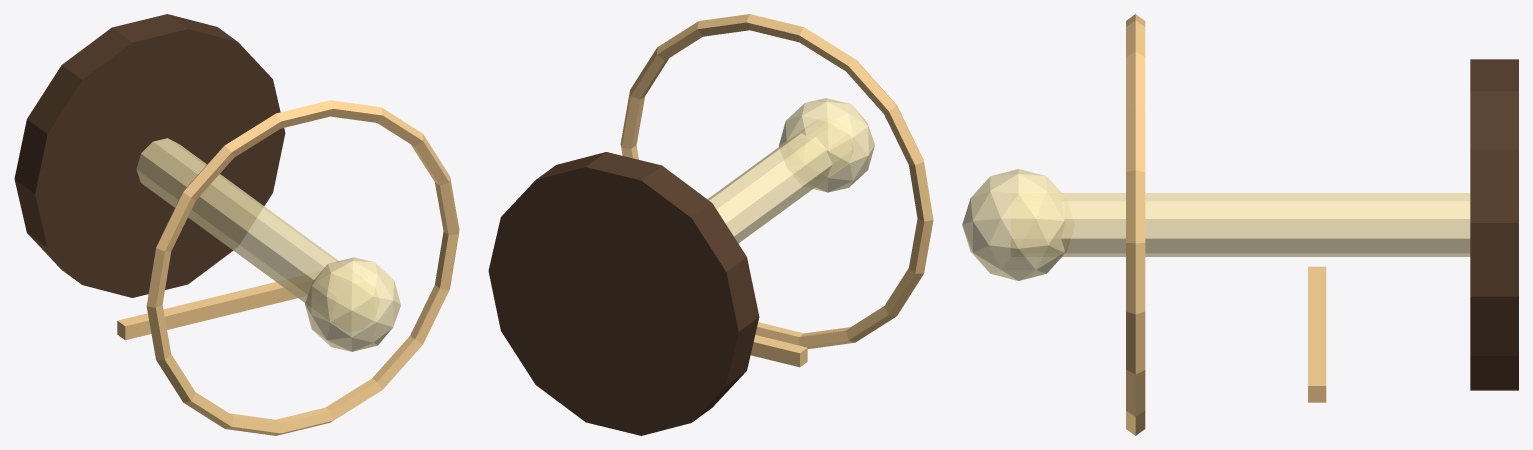
Rendered from 08_support_npc_assist_marker.glb.
3 views of the same model, side by side, from view 1: azimuth 30°, elevation 25°; view 2: azimuth 150°, elevation 25°; view 3: azimuth 270°, elevation 25° (orthographic). The views are drawn at different scales.
Parts seen in each view (by area): view 1: assist_beacon_base, support_lock_ring, assist_column, npc_signal_core, support_direction_marker; view 2: assist_beacon_base, support_lock_ring, assist_column, npc_signal_core, support_direction_marker; view 3: assist_column, assist_beacon_base, npc_signal_core, support_lock_ring, support_direction_marker.
Part boxes in pixels (<box>): assist_beacon_base: <box>14,14,285,297</box>; support_lock_ring: <box>146,100,459,435</box>; assist_column: <box>136,138,338,302</box>; npc_signal_core: <box>305,257,400,351</box>; support_direction_marker: <box>117,271,320,340</box>; assist_beacon_base: <box>488,152,759,435</box>; support_lock_ring: <box>620,14,933,348</box>; assist_column: <box>707,133,832,243</box>; npc_signal_core: <box>779,98,874,192</box>; support_direction_marker: <box>750,335,807,367</box>; assist_column: <box>1061,193,1470,256</box>; assist_beacon_base: <box>1470,59,1518,390</box>; npc_signal_core: <box>962,169,1065,280</box>; support_lock_ring: <box>1126,14,1145,435</box>; support_direction_marker: <box>1308,266,1326,402</box>.
Size of the model in its own units: 1.05 by 1.03 by 1.38.
